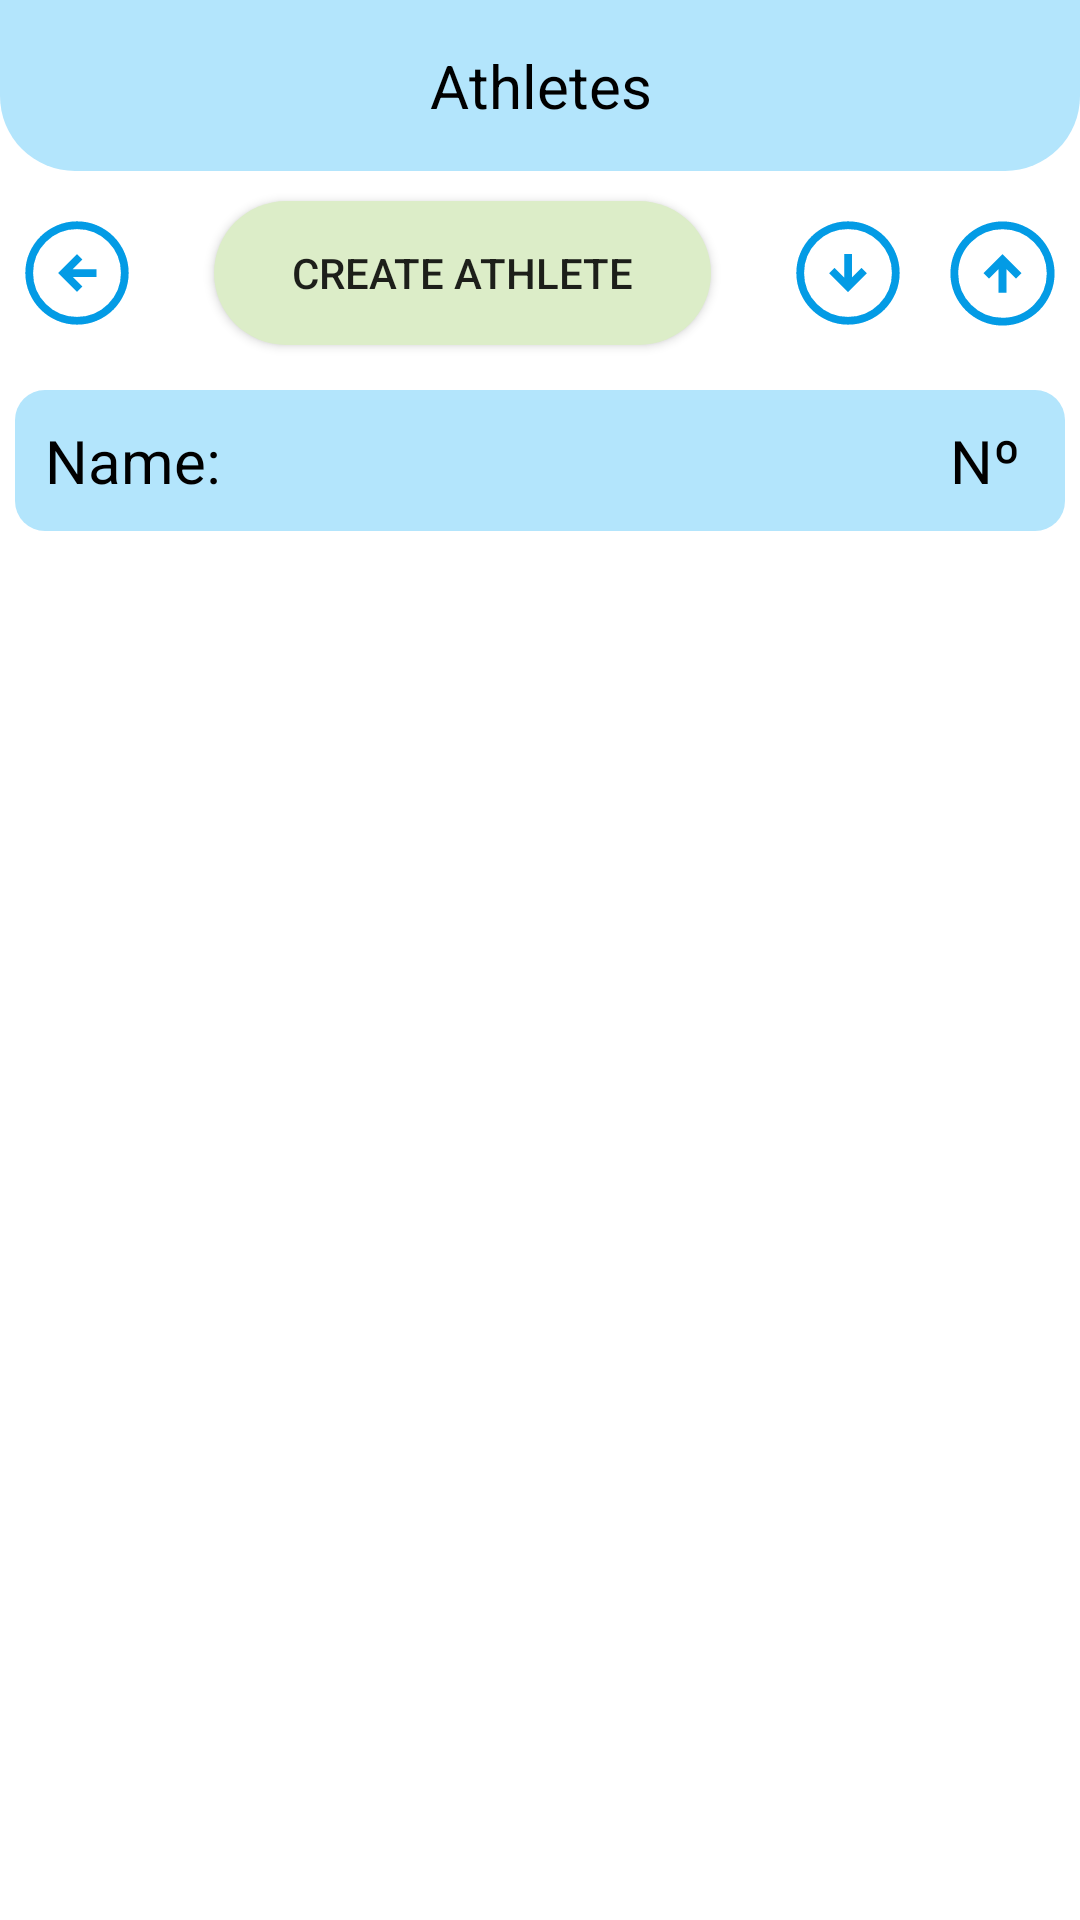

Icons on this 1080×1920 Android screen, each with the point to tap as point (x, y):
arrow circle down: point (848, 273)
arrow circle left: point (77, 273)
arrow circle up: point (1002, 273)
